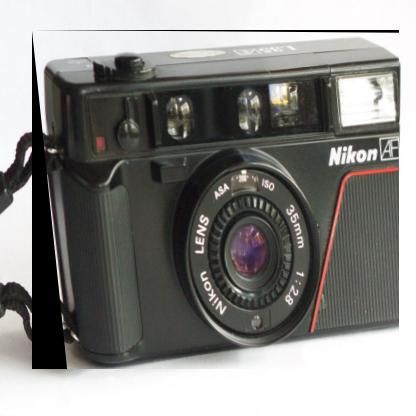Camera: (33, 31, 401, 371)
